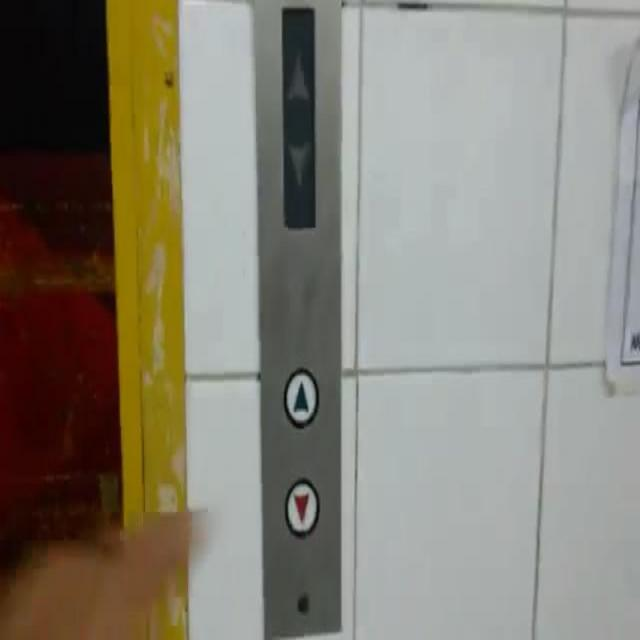down: (282, 476, 320, 540)
led: (281, 1, 316, 228)
up: (281, 365, 320, 428)
